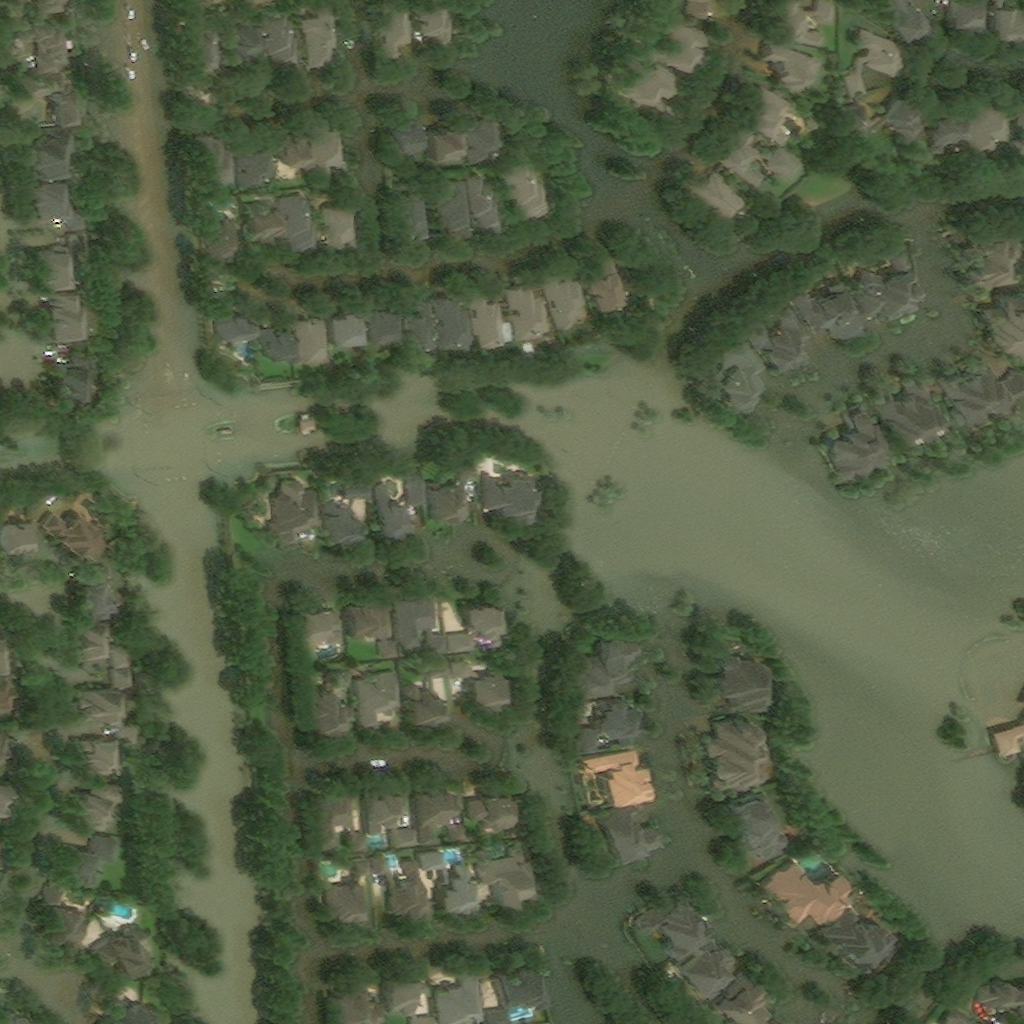major_damage: (753, 860, 854, 936), (705, 791, 788, 868), (937, 357, 1022, 425), (716, 128, 809, 189), (813, 910, 897, 973), (642, 894, 719, 959), (874, 373, 942, 445), (825, 402, 890, 476), (597, 802, 667, 867), (846, 31, 908, 102), (576, 626, 636, 699), (743, 304, 811, 368), (965, 215, 1022, 291), (794, 279, 866, 339), (857, 251, 918, 321), (711, 334, 768, 407), (704, 716, 759, 788), (70, 670, 143, 724), (768, 1, 840, 53), (397, 594, 452, 661), (845, 93, 925, 139), (675, 944, 737, 1003), (488, 960, 546, 1023), (316, 794, 371, 860), (94, 925, 154, 985), (274, 480, 324, 552), (579, 749, 648, 801), (41, 510, 111, 561), (539, 270, 592, 336), (500, 162, 551, 230), (422, 852, 476, 915), (376, 475, 429, 539), (367, 789, 420, 852), (477, 843, 533, 900), (745, 87, 796, 149), (429, 465, 479, 528), (685, 172, 742, 226), (16, 21, 70, 77), (76, 621, 136, 671), (911, 115, 970, 165), (507, 286, 555, 347), (374, 861, 426, 917), (415, 783, 459, 849), (715, 650, 764, 709), (26, 129, 81, 181), (979, 291, 1022, 357), (327, 862, 374, 922), (406, 663, 454, 721), (18, 76, 77, 123), (586, 253, 632, 313), (715, 977, 775, 1023), (73, 781, 126, 833), (646, 22, 701, 72), (469, 291, 514, 351), (765, 43, 824, 87), (483, 471, 536, 519), (621, 61, 670, 111), (303, 10, 341, 73), (452, 661, 510, 702), (462, 113, 504, 169), (438, 975, 484, 1023), (236, 140, 279, 191), (186, 28, 222, 88), (434, 296, 475, 347), (280, 195, 319, 248), (201, 133, 236, 192), (44, 289, 85, 339), (336, 984, 388, 1023), (467, 791, 514, 834), (313, 125, 348, 181), (975, 980, 1022, 1021), (399, 297, 437, 347), (379, 3, 416, 54), (468, 178, 500, 236), (296, 316, 333, 366), (885, 0, 929, 41), (594, 696, 639, 735), (415, 0, 451, 48), (321, 499, 363, 540), (217, 303, 257, 346), (439, 183, 472, 235), (204, 211, 236, 264), (361, 305, 404, 344), (82, 567, 114, 617), (389, 977, 427, 1019), (972, 103, 1010, 145), (429, 123, 464, 168), (390, 116, 425, 160), (28, 180, 67, 219), (38, 247, 73, 290), (413, 963, 438, 1023), (262, 14, 293, 62), (80, 738, 116, 779), (398, 198, 431, 242), (247, 202, 281, 244), (260, 326, 296, 365), (325, 204, 356, 248), (59, 356, 93, 395), (327, 310, 363, 346), (104, 998, 154, 1023), (227, 18, 262, 52), (278, 134, 312, 168), (0, 521, 30, 555), (992, 5, 1022, 36), (993, 728, 1022, 756), (336, 482, 374, 503), (952, 0, 982, 23), (688, 0, 714, 20), (68, 213, 89, 236), (580, 728, 599, 752), (40, 0, 66, 17), (614, 732, 636, 751), (120, 727, 139, 747), (0, 677, 10, 715), (945, 1011, 976, 1023), (0, 783, 7, 827), (0, 733, 8, 762), (725, 638, 743, 649)
minor_damage: (349, 600, 400, 663), (448, 599, 502, 658), (62, 837, 121, 888), (358, 672, 407, 731), (306, 675, 354, 734), (42, 886, 87, 942), (296, 608, 347, 654)
